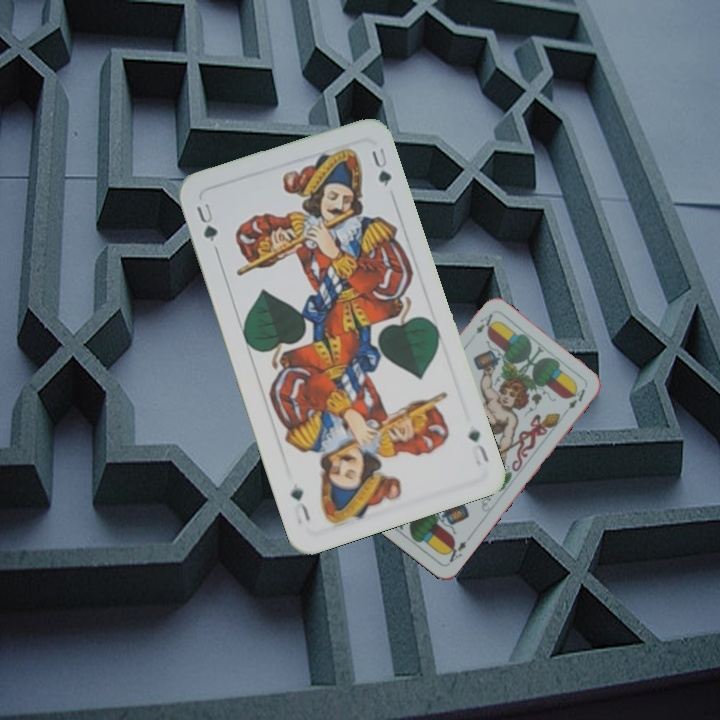EA: (441, 537, 470, 565), (472, 309, 495, 337)
GU: (192, 199, 220, 245), (464, 425, 491, 468)
